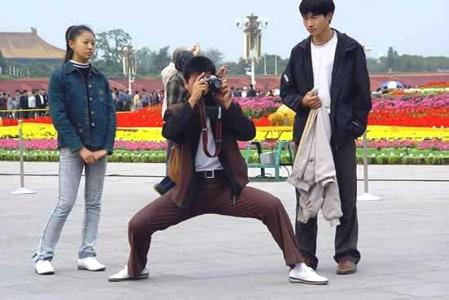person: (108, 55, 328, 286)
